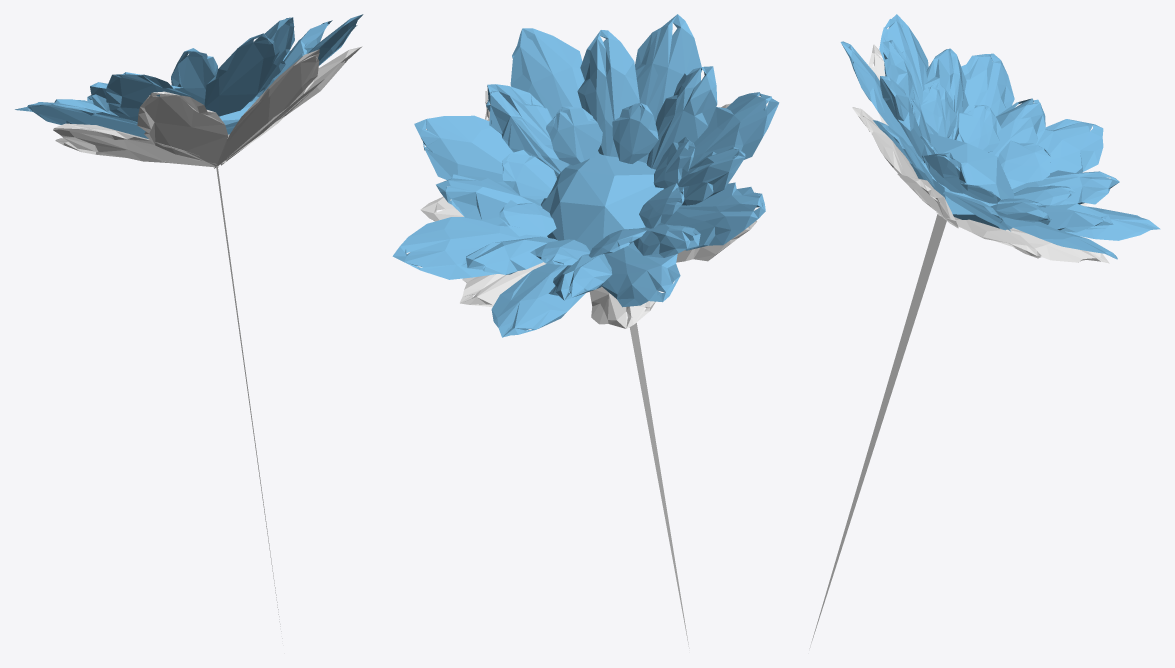
The model's file is flower_.fbx.
The picture shows the model from 3 angles, left to right: view 1: azimuth 30°, elevation 25°; view 2: azimuth 150°, elevation 25°; view 3: azimuth 270°, elevation 25°; orthographic projection. The views are drawn at different scales.
Visible parts, largest first — view 1: Sphere.025; view 2: Sphere.025; view 3: Sphere.025.
Boxes of the visible parts, x1,y1,x2,y2 form: Sphere.025: [15, 14, 363, 638]; Sphere.025: [392, 14, 779, 648]; Sphere.025: [809, 14, 1160, 648].
Bounding box in the file's own units: 140 × 247 × 130.
